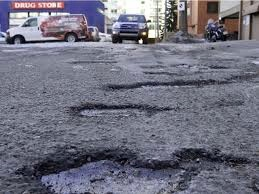pothole: (37, 150, 249, 192), (72, 97, 168, 125), (103, 80, 235, 89), (66, 57, 119, 69), (141, 68, 181, 78)
